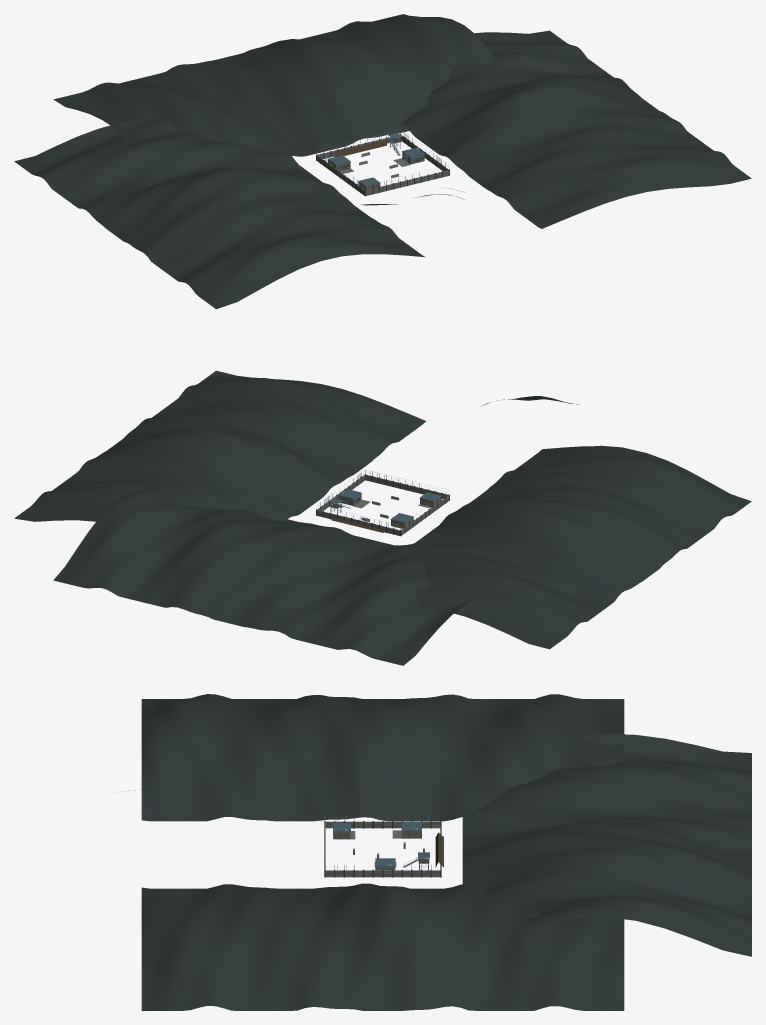
The model's file is compound.glb.
The picture shows the model from 3 angles, top to bottom: view 1: azimuth 30°, elevation 25°; view 2: azimuth 150°, elevation 25°; view 3: azimuth 270°, elevation 25°; orthographic projection. The views are drawn at different scales.
Parts seen in each view (by area): view 1: Background, Perimeter; view 2: Background, Perimeter; view 3: Background, Perimeter.
Part boxes in pixels (<box>): Background: <box>14,14,751,309</box>; Perimeter: <box>316,130,449,196</box>; Background: <box>14,370,751,665</box>; Perimeter: <box>316,470,449,536</box>; Background: <box>118,694,751,1010</box>; Perimeter: <box>324,816,441,877</box>.
Size of the model in its own units: 306 by 22.07 by 306.
10 materials, 6 textured.
